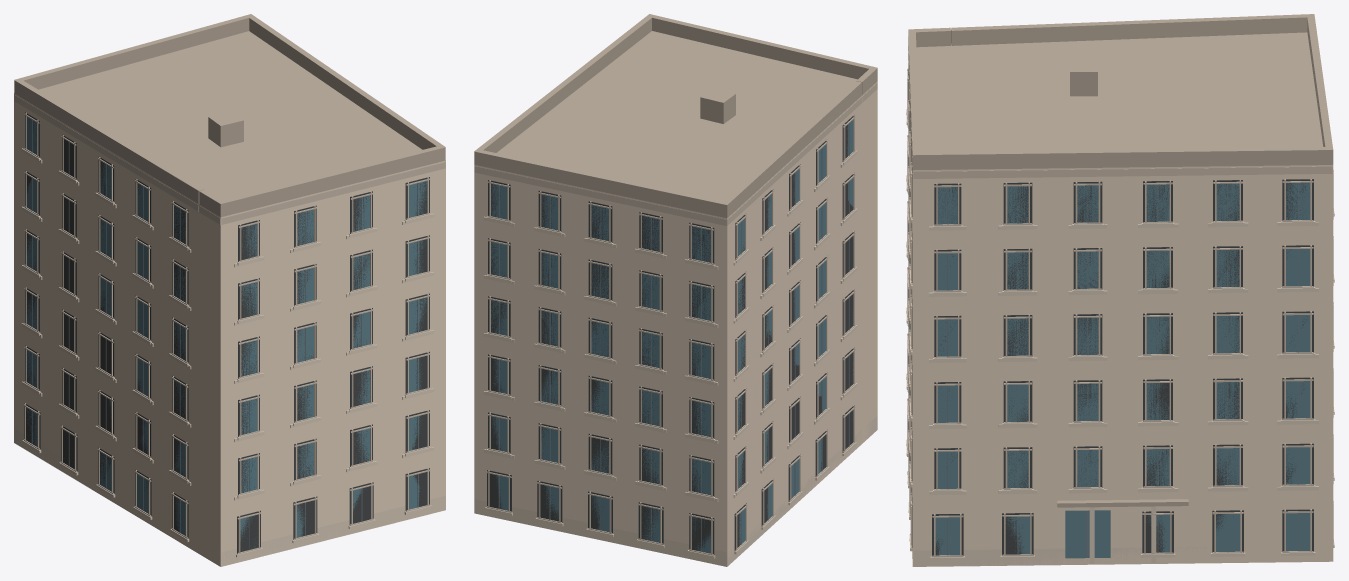
File: cop_predio_historico_02__way_588408932.fbx
3 views of the same model, side by side, from view 1: azimuth 30°, elevation 25°; view 2: azimuth 150°, elevation 25°; view 3: azimuth 270°, elevation 25° (orthographic). The views are drawn at different scales.
Visible parts, largest first — view 1: cop_predio_historico_02__way_588408932_wall, cop_predio_historico_02__way_588408932_roof, cop_predio_historico_02__way_588408932_shadow, cop_predio_historico_02__way_588408932_glass, cop_predio_historico_02__way_588408932_trim, cop_predio_historico_02__way_588408932_stone, cop_predio_historico_02__way_588408932_metal; view 2: cop_predio_historico_02__way_588408932_wall, cop_predio_historico_02__way_588408932_roof, cop_predio_historico_02__way_588408932_shadow, cop_predio_historico_02__way_588408932_glass, cop_predio_historico_02__way_588408932_trim, cop_predio_historico_02__way_588408932_stone, cop_predio_historico_02__way_588408932_metal; view 3: cop_predio_historico_02__way_588408932_wall, cop_predio_historico_02__way_588408932_roof, cop_predio_historico_02__way_588408932_glass, cop_predio_historico_02__way_588408932_shadow, cop_predio_historico_02__way_588408932_trim, cop_predio_historico_02__way_588408932_stone, cop_predio_historico_02__way_588408932_metal.
Boxes of the visible parts, box(x1,y1,x2,y2) form: cop_predio_historico_02__way_588408932_wall: box(14, 93, 445, 566); cop_predio_historico_02__way_588408932_roof: box(14, 14, 445, 217); cop_predio_historico_02__way_588408932_shadow: box(24, 112, 429, 553); cop_predio_historico_02__way_588408932_glass: box(26, 117, 427, 548); cop_predio_historico_02__way_588408932_trim: box(14, 95, 445, 554); cop_predio_historico_02__way_588408932_stone: box(14, 148, 445, 566); cop_predio_historico_02__way_588408932_metal: box(31, 120, 418, 550); cop_predio_historico_02__way_588408932_wall: box(474, 81, 877, 566); cop_predio_historico_02__way_588408932_roof: box(474, 14, 877, 218); cop_predio_historico_02__way_588408932_shadow: box(487, 115, 854, 555); cop_predio_historico_02__way_588408932_glass: box(491, 120, 853, 553); cop_predio_historico_02__way_588408932_trim: box(474, 83, 877, 555); cop_predio_historico_02__way_588408932_stone: box(474, 150, 877, 566); cop_predio_historico_02__way_588408932_metal: box(498, 123, 849, 551); cop_predio_historico_02__way_588408932_wall: box(908, 60, 1333, 566); cop_predio_historico_02__way_588408932_roof: box(908, 14, 1333, 507); cop_predio_historico_02__way_588408932_glass: box(935, 182, 1310, 558); cop_predio_historico_02__way_588408932_shadow: box(908, 68, 1313, 556); cop_predio_historico_02__way_588408932_trim: box(907, 51, 1333, 557); cop_predio_historico_02__way_588408932_stone: box(906, 109, 1334, 566); cop_predio_historico_02__way_588408932_metal: box(947, 183, 1298, 557).
Size of the model in its own units: 1384 by 1912 by 1761.
